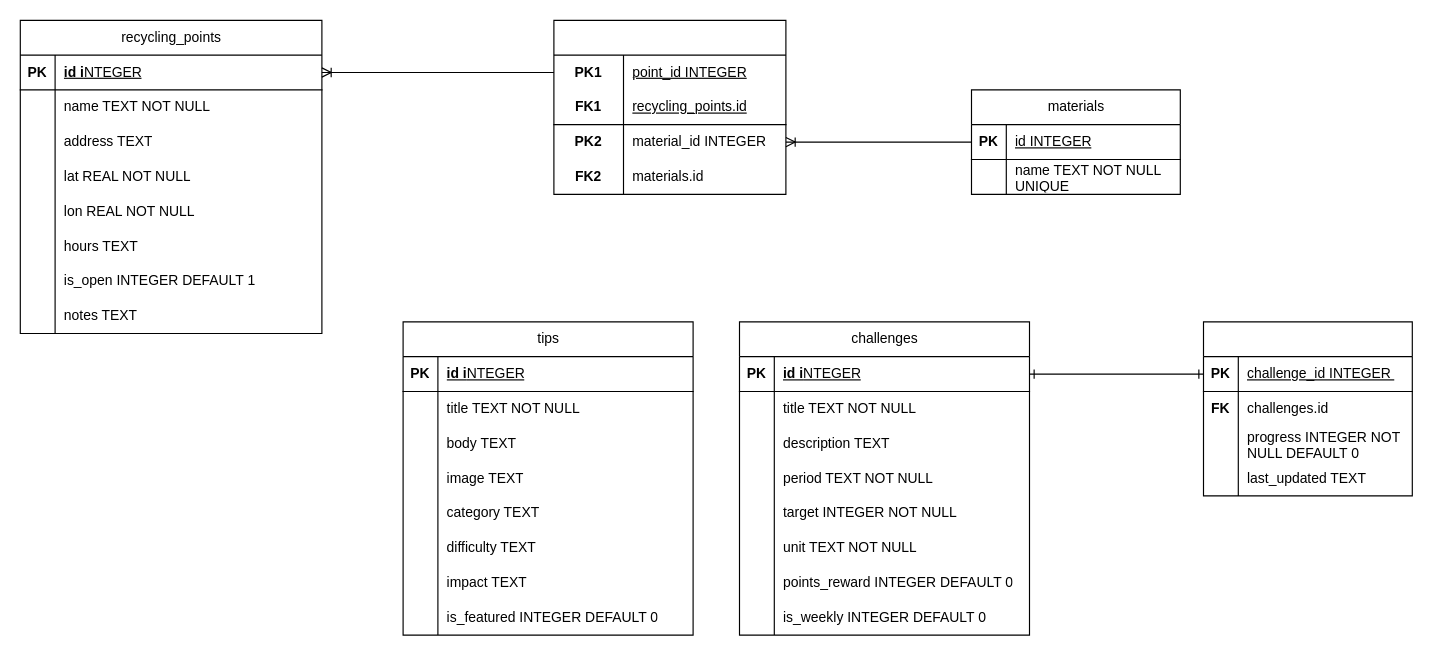
Image size: 1433x655. Some labels were removed from this diagram. Each missing label, with the box of its shape:
challenge_progress: (1202, 321, 1412, 496)
point_materials: (553, 19, 786, 194)
